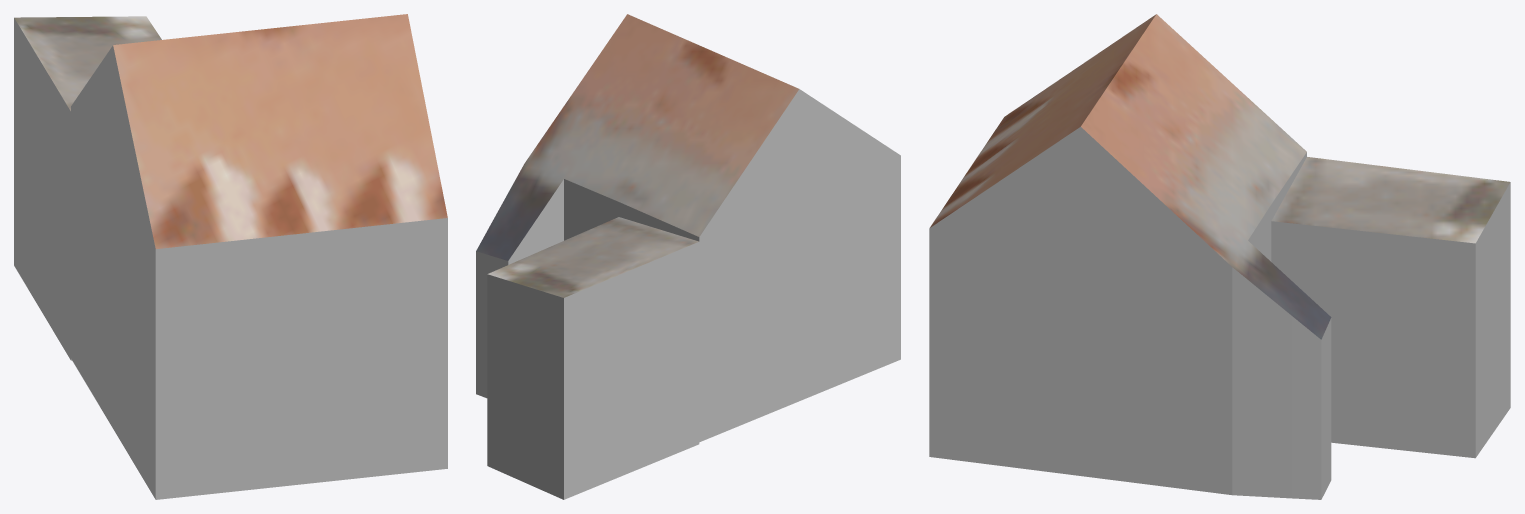
Rendered from DEBW_0010007Tx5Z.gltf.
3 renders of one model, left to right at view 1: azimuth 30°, elevation 25°; view 2: azimuth 150°, elevation 25°; view 3: azimuth 270°, elevation 25°, orthographic. The views are drawn at different scales.
Visible parts, largest first — view 1: Z_UP; view 2: Z_UP; view 3: Z_UP.
Boxes of the visible parts, x1,y1,x2,y2 form: Z_UP: [14, 14, 447, 499]; Z_UP: [476, 14, 900, 499]; Z_UP: [929, 14, 1510, 499].
Bounding box in the file's own units: 12.36 × 13.1 × 19.63.
Materials: 2 (1 with a texture image).
